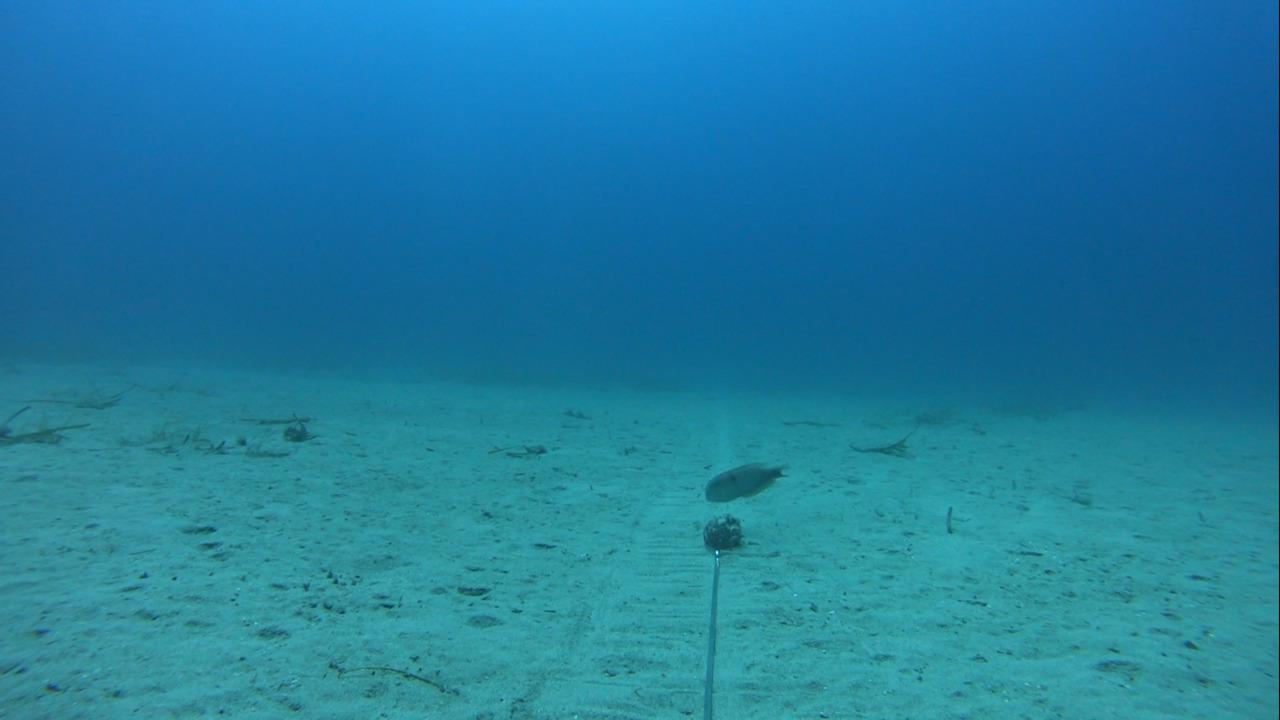raor: (700, 459, 788, 505)
